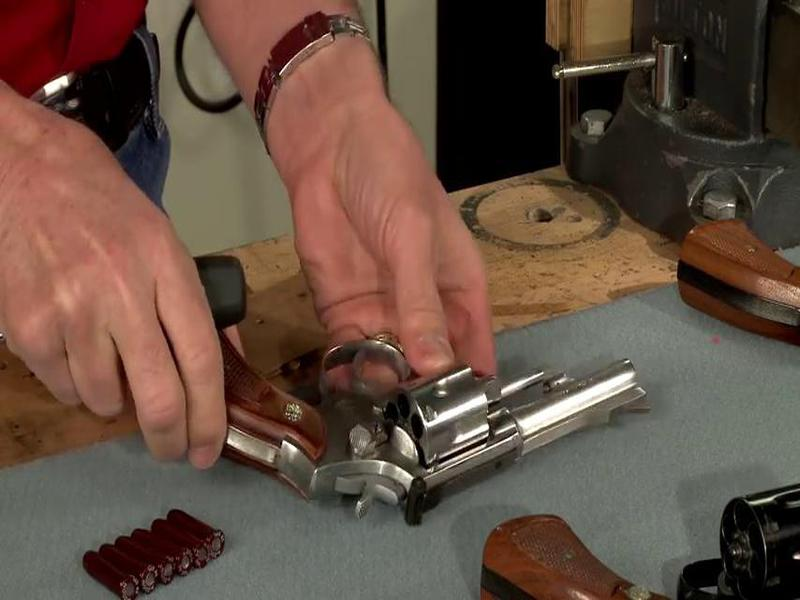Revolver: (125, 298, 643, 501)
